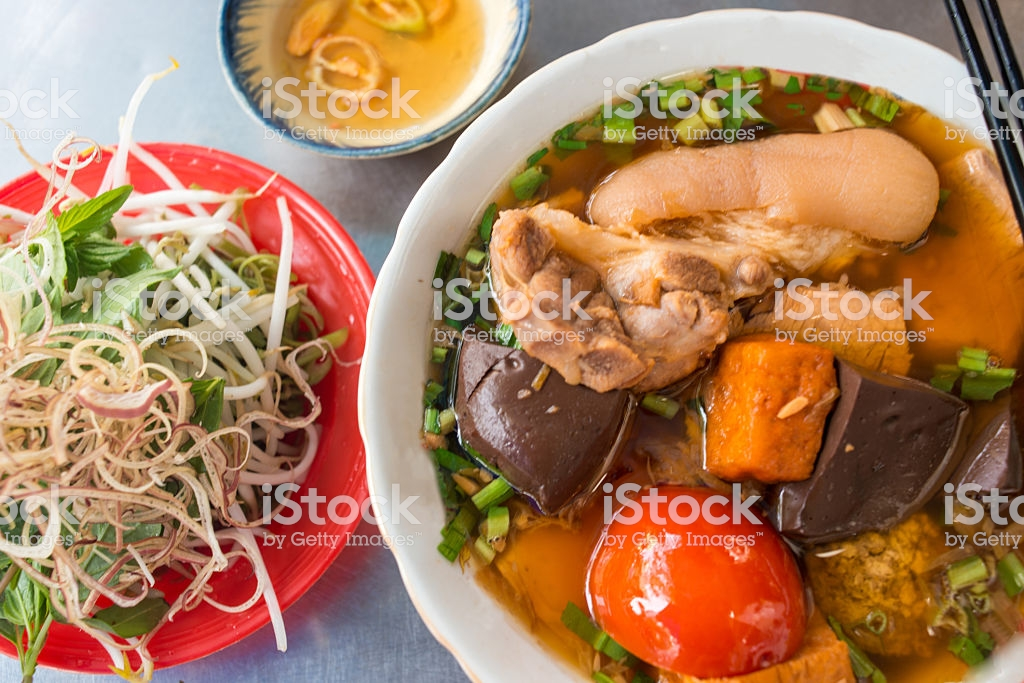pork: (576, 144, 922, 280)
tofu: (712, 346, 820, 478)
